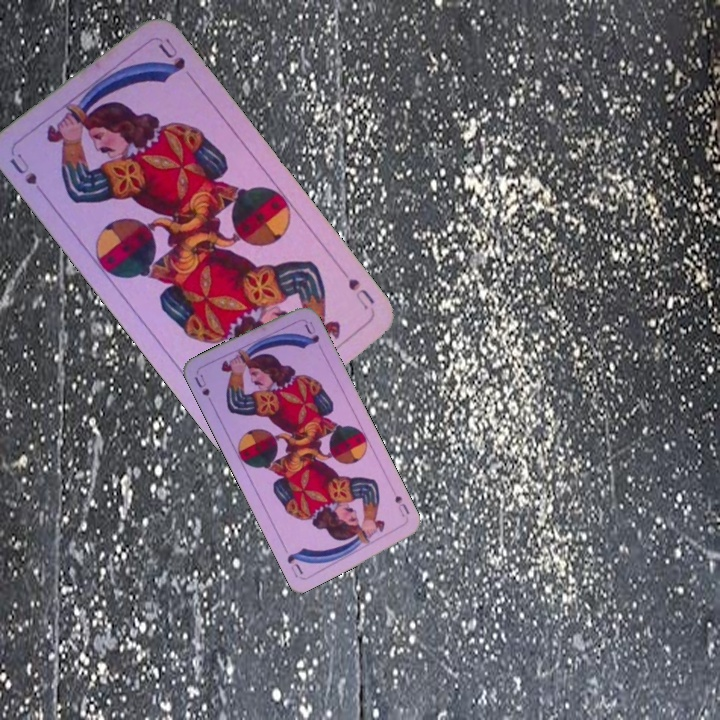SU: (6, 149, 50, 202), (336, 266, 378, 313), (190, 370, 213, 399), (391, 491, 412, 519)
